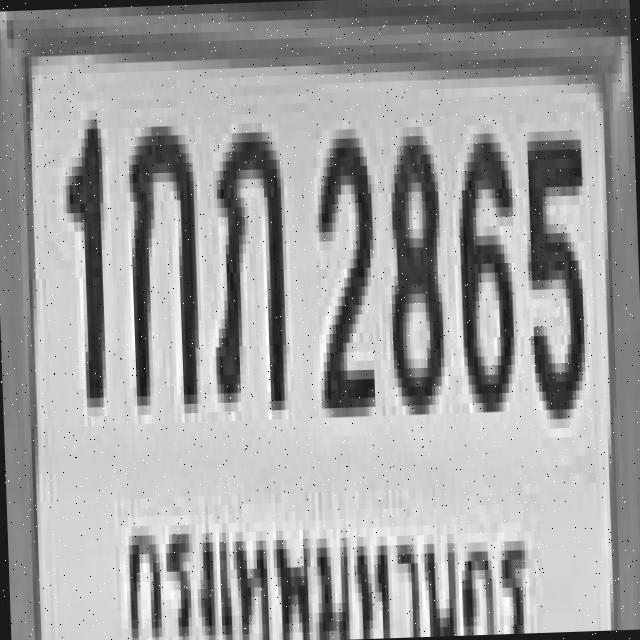1: (60, 110, 106, 398)
10GorGai: (124, 116, 197, 406)
2: (312, 128, 374, 408)
41PhorSamPhao: (205, 117, 288, 398)
5: (520, 130, 586, 410)
6: (452, 123, 516, 403)
8: (382, 126, 442, 406)
Bangkok: (114, 485, 535, 640)
